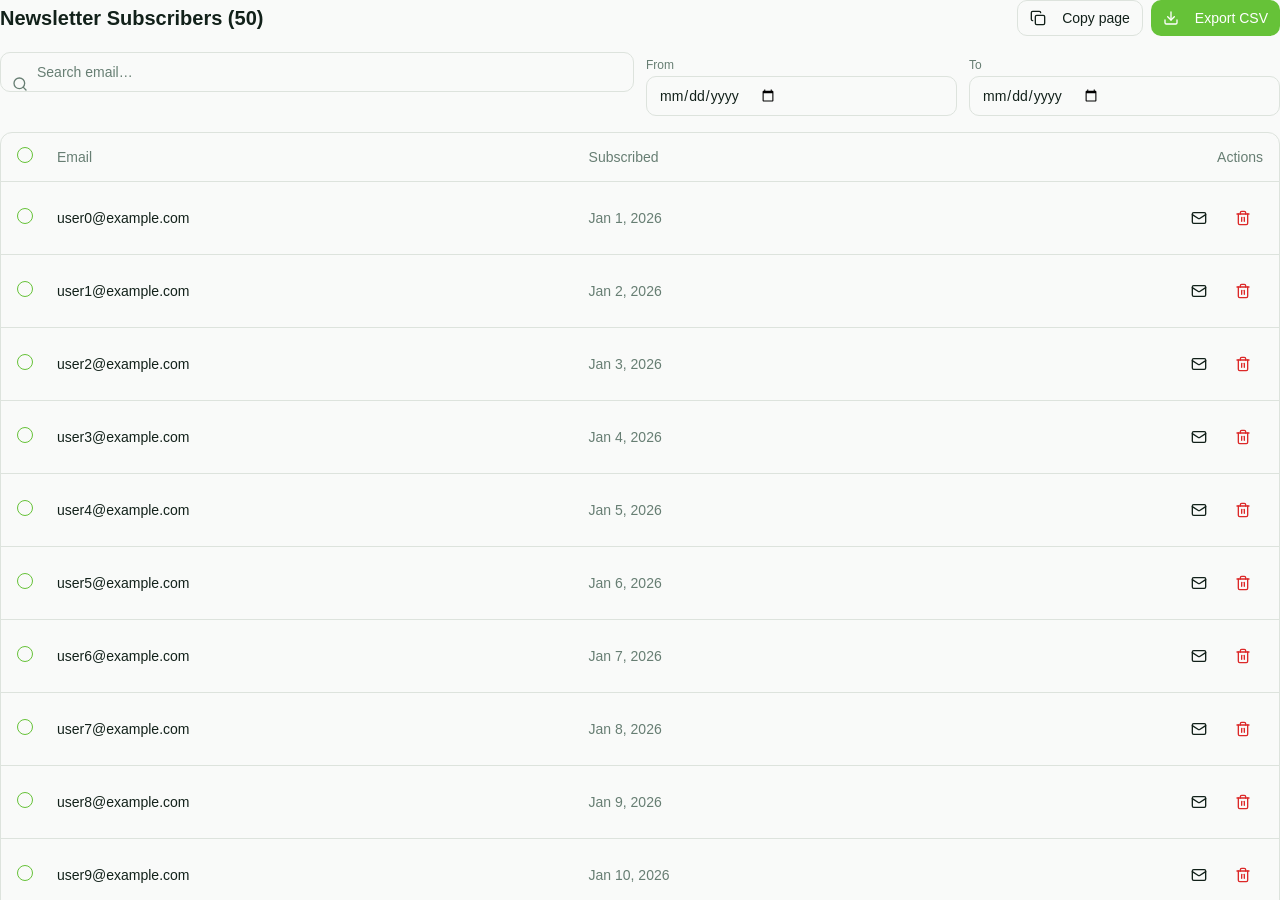
it: NewsletterSubscribersManager › requires confirmation before bulk deleting selected subscribers
The width and height of the screenshot is (1280, 900).
Later steps or results of the test are not shown.
expect the text "user0@example.com" is shown: met, box x1=41 y1=181 x2=572 y2=254
What coordinates should you click on to do the following:
click the checkbox named "Select user"
I would click on:
 (25, 216)
Its box is x1=17 y1=208 x2=33 y2=224.
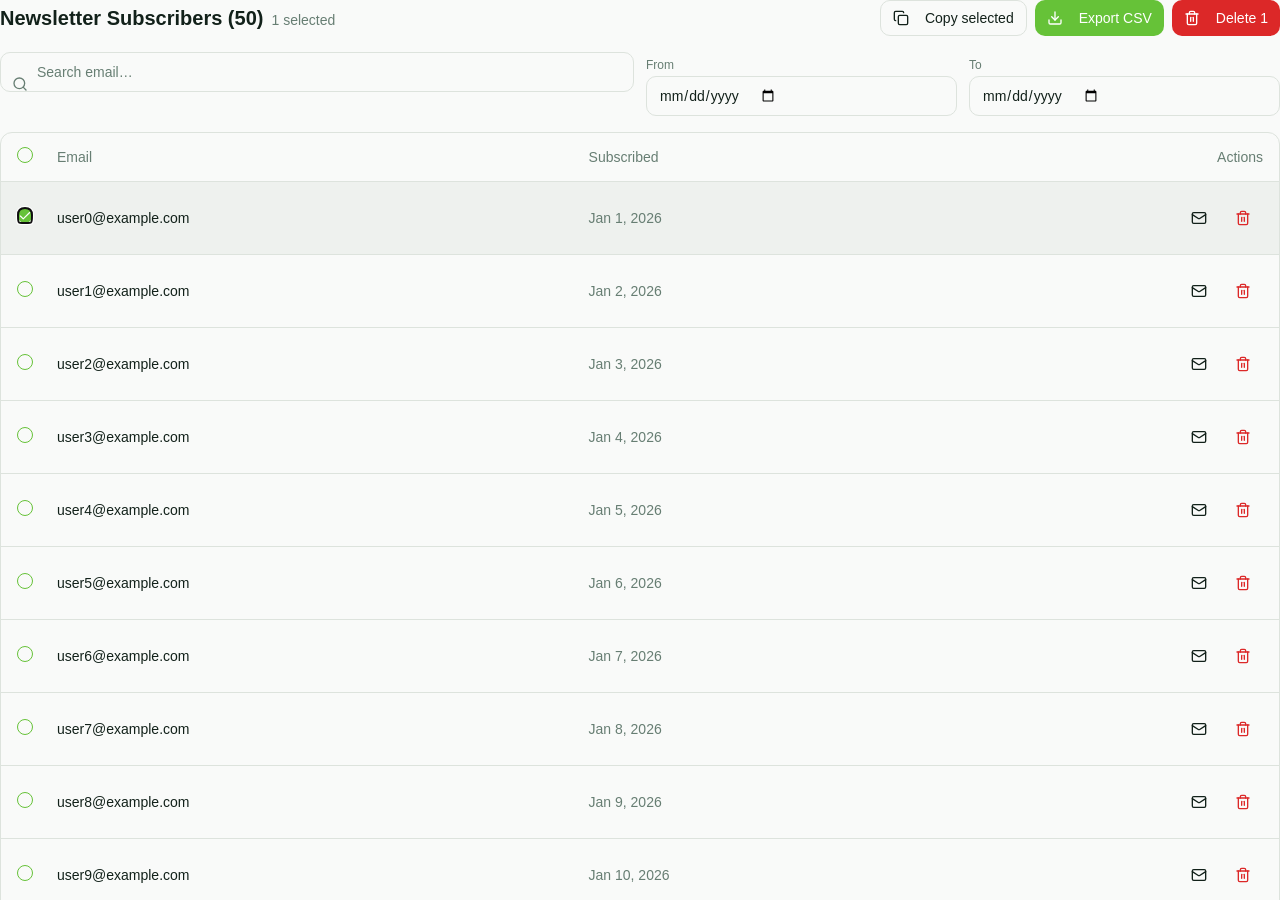
What coordinates should you click on to do the following:
click the checkbox named "Select user"
I would click on:
 (25, 288)
Its box is x1=17 y1=280 x2=33 y2=296.
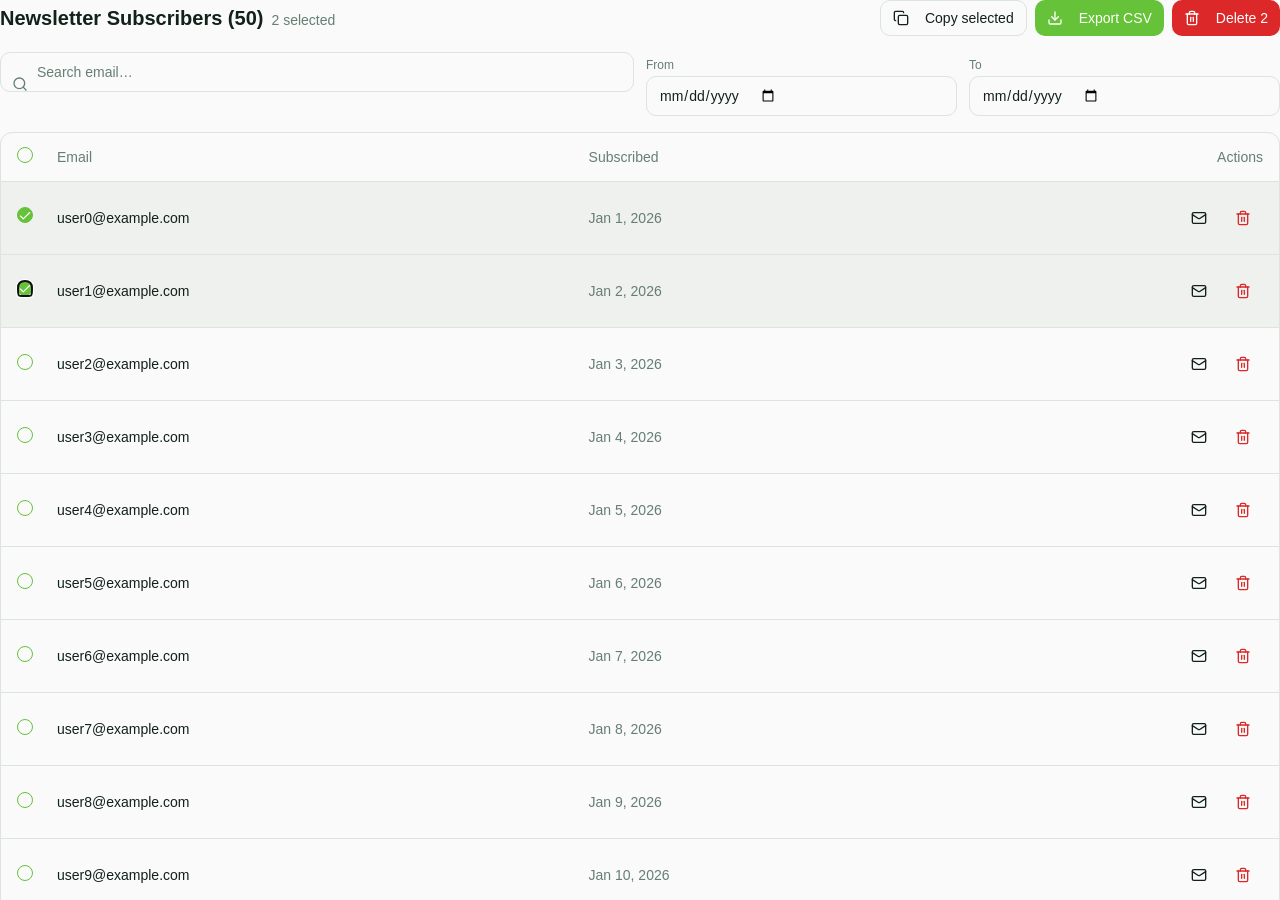
What coordinates should you click on to do the following:
click the button "Delete 2"
I would click on:
 (1226, 18)
Its box is x1=1172 y1=0 x2=1279 y2=36.
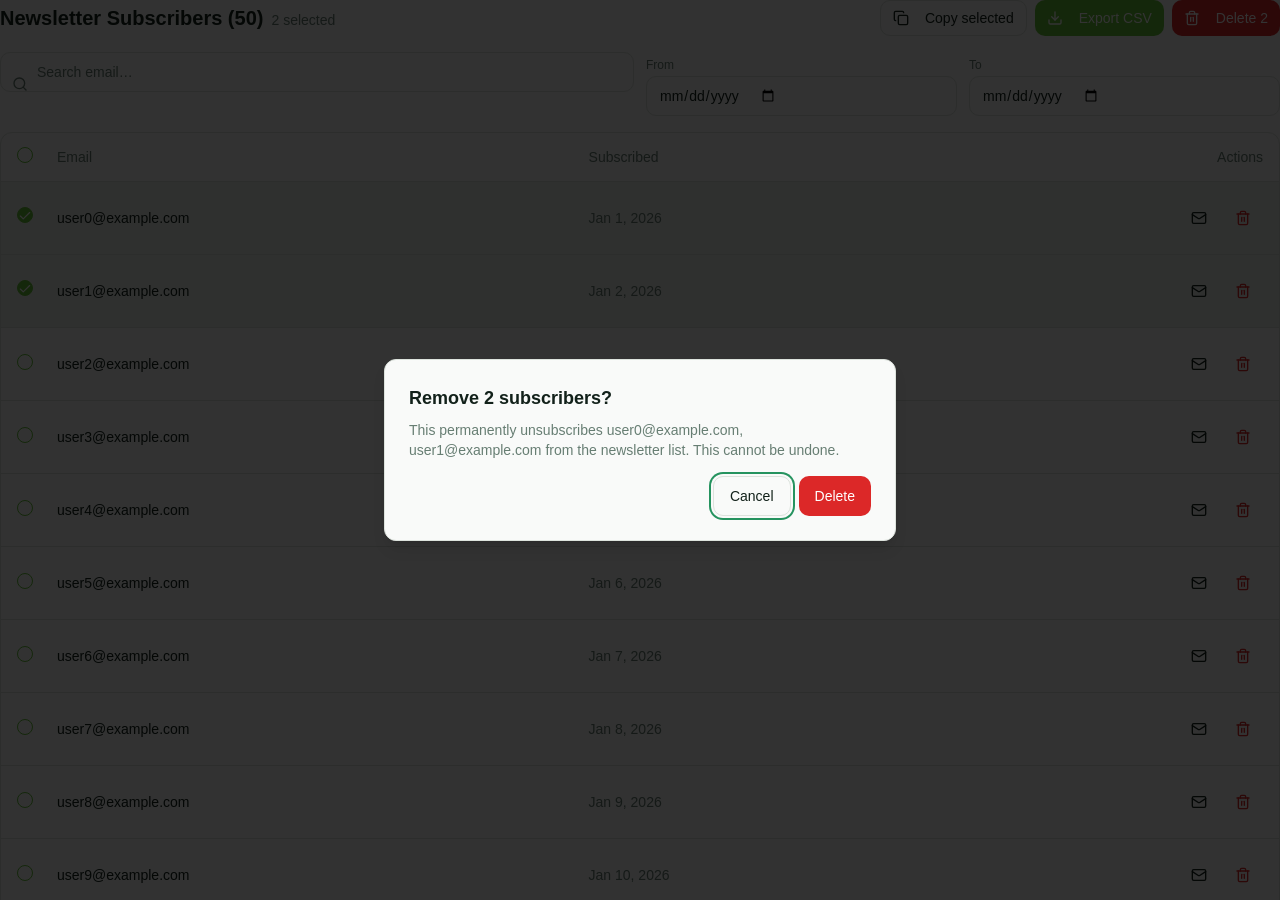
expect the heading "Remove 2 subscribers?" is shown: met, box x1=409 y1=388 x2=612 y2=408
